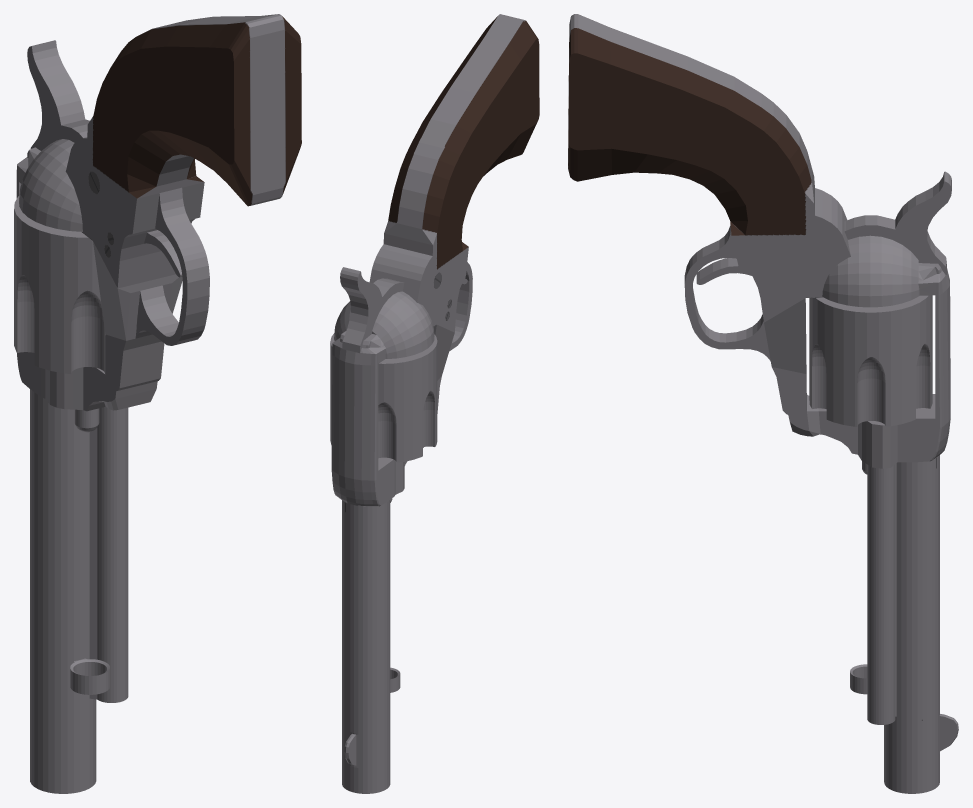
Rendered from coltsaa.fbx.
3 views of the same model, side by side, from view 1: azimuth 30°, elevation 25°; view 2: azimuth 150°, elevation 25°; view 3: azimuth 270°, elevation 25° (orthographic). The views are drawn at different scales.
Parts seen in each view (by area): view 1: Colt SAA; view 2: Colt SAA; view 3: Colt SAA.
Boxes of the visible parts, x1,y1,x2,y2 form: Colt SAA: (14,14,301,793); Colt SAA: (330,14,539,793); Colt SAA: (568,14,958,793).
Size of the model in its own units: 0.0358 by 0.2441 by 0.1136.
